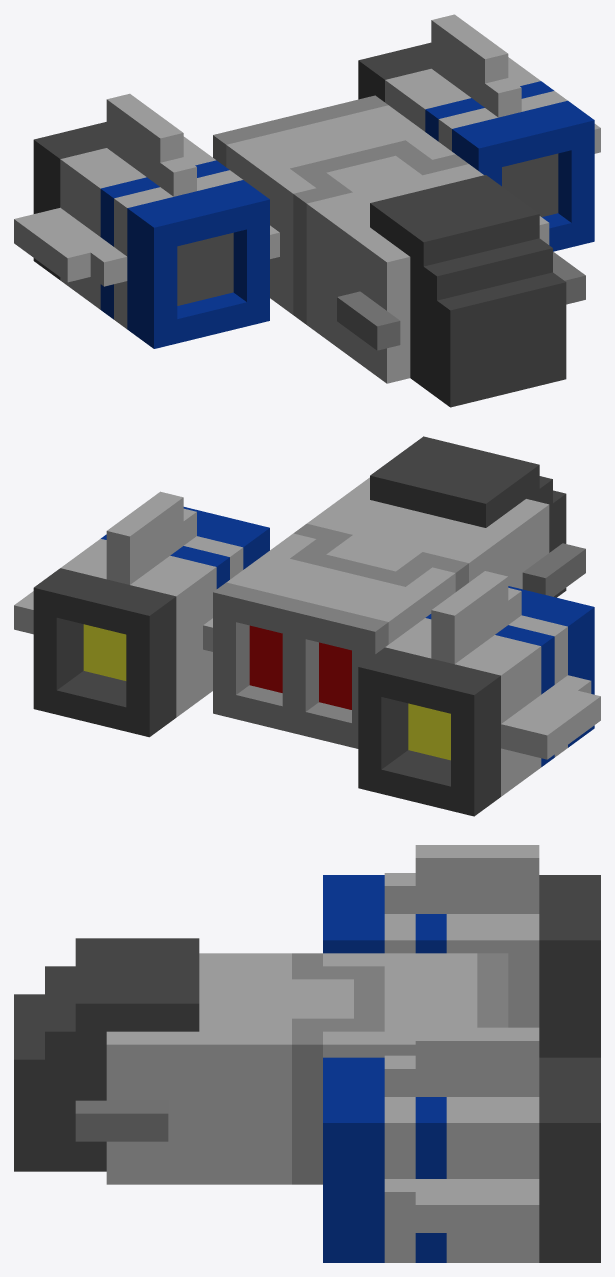
File: spaceship.dae
3 views of the same model, one above another, from view 1: azimuth 30°, elevation 25°; view 2: azimuth 150°, elevation 25°; view 3: azimuth 270°, elevation 25° (orthographic). The views are drawn at different scales.
Visible parts, largest first — view 1: ObjObject; view 2: ObjObject; view 3: ObjObject.
Boxes of the visible parts, bbox=[...] form: ObjObject: bbox=[14, 14, 600, 407]; ObjObject: bbox=[14, 436, 600, 816]; ObjObject: bbox=[14, 845, 600, 1262].
Bounding box in the file's own units: 2.3 × 1.9 × 0.7.
1 material, 1 textured.
